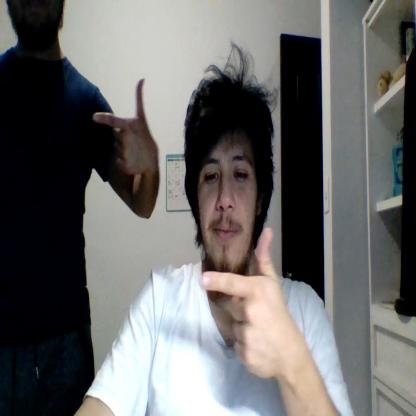G: (198, 226, 288, 378), (93, 77, 154, 174)
